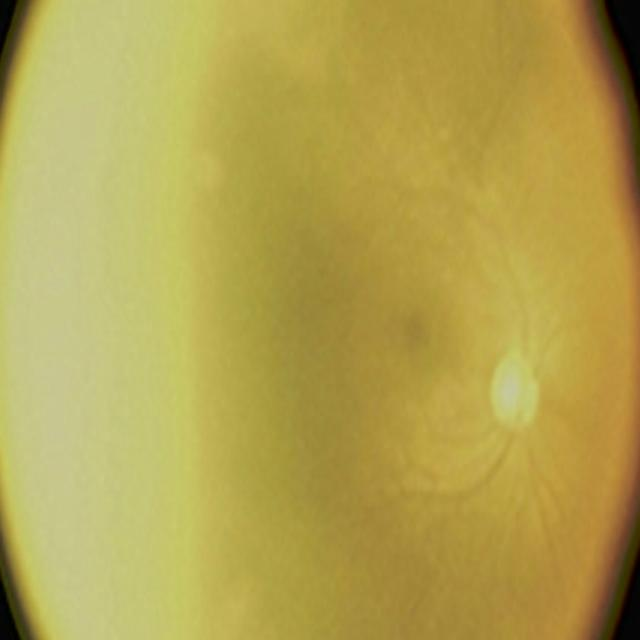optic-nerve: (470, 325, 559, 489)
